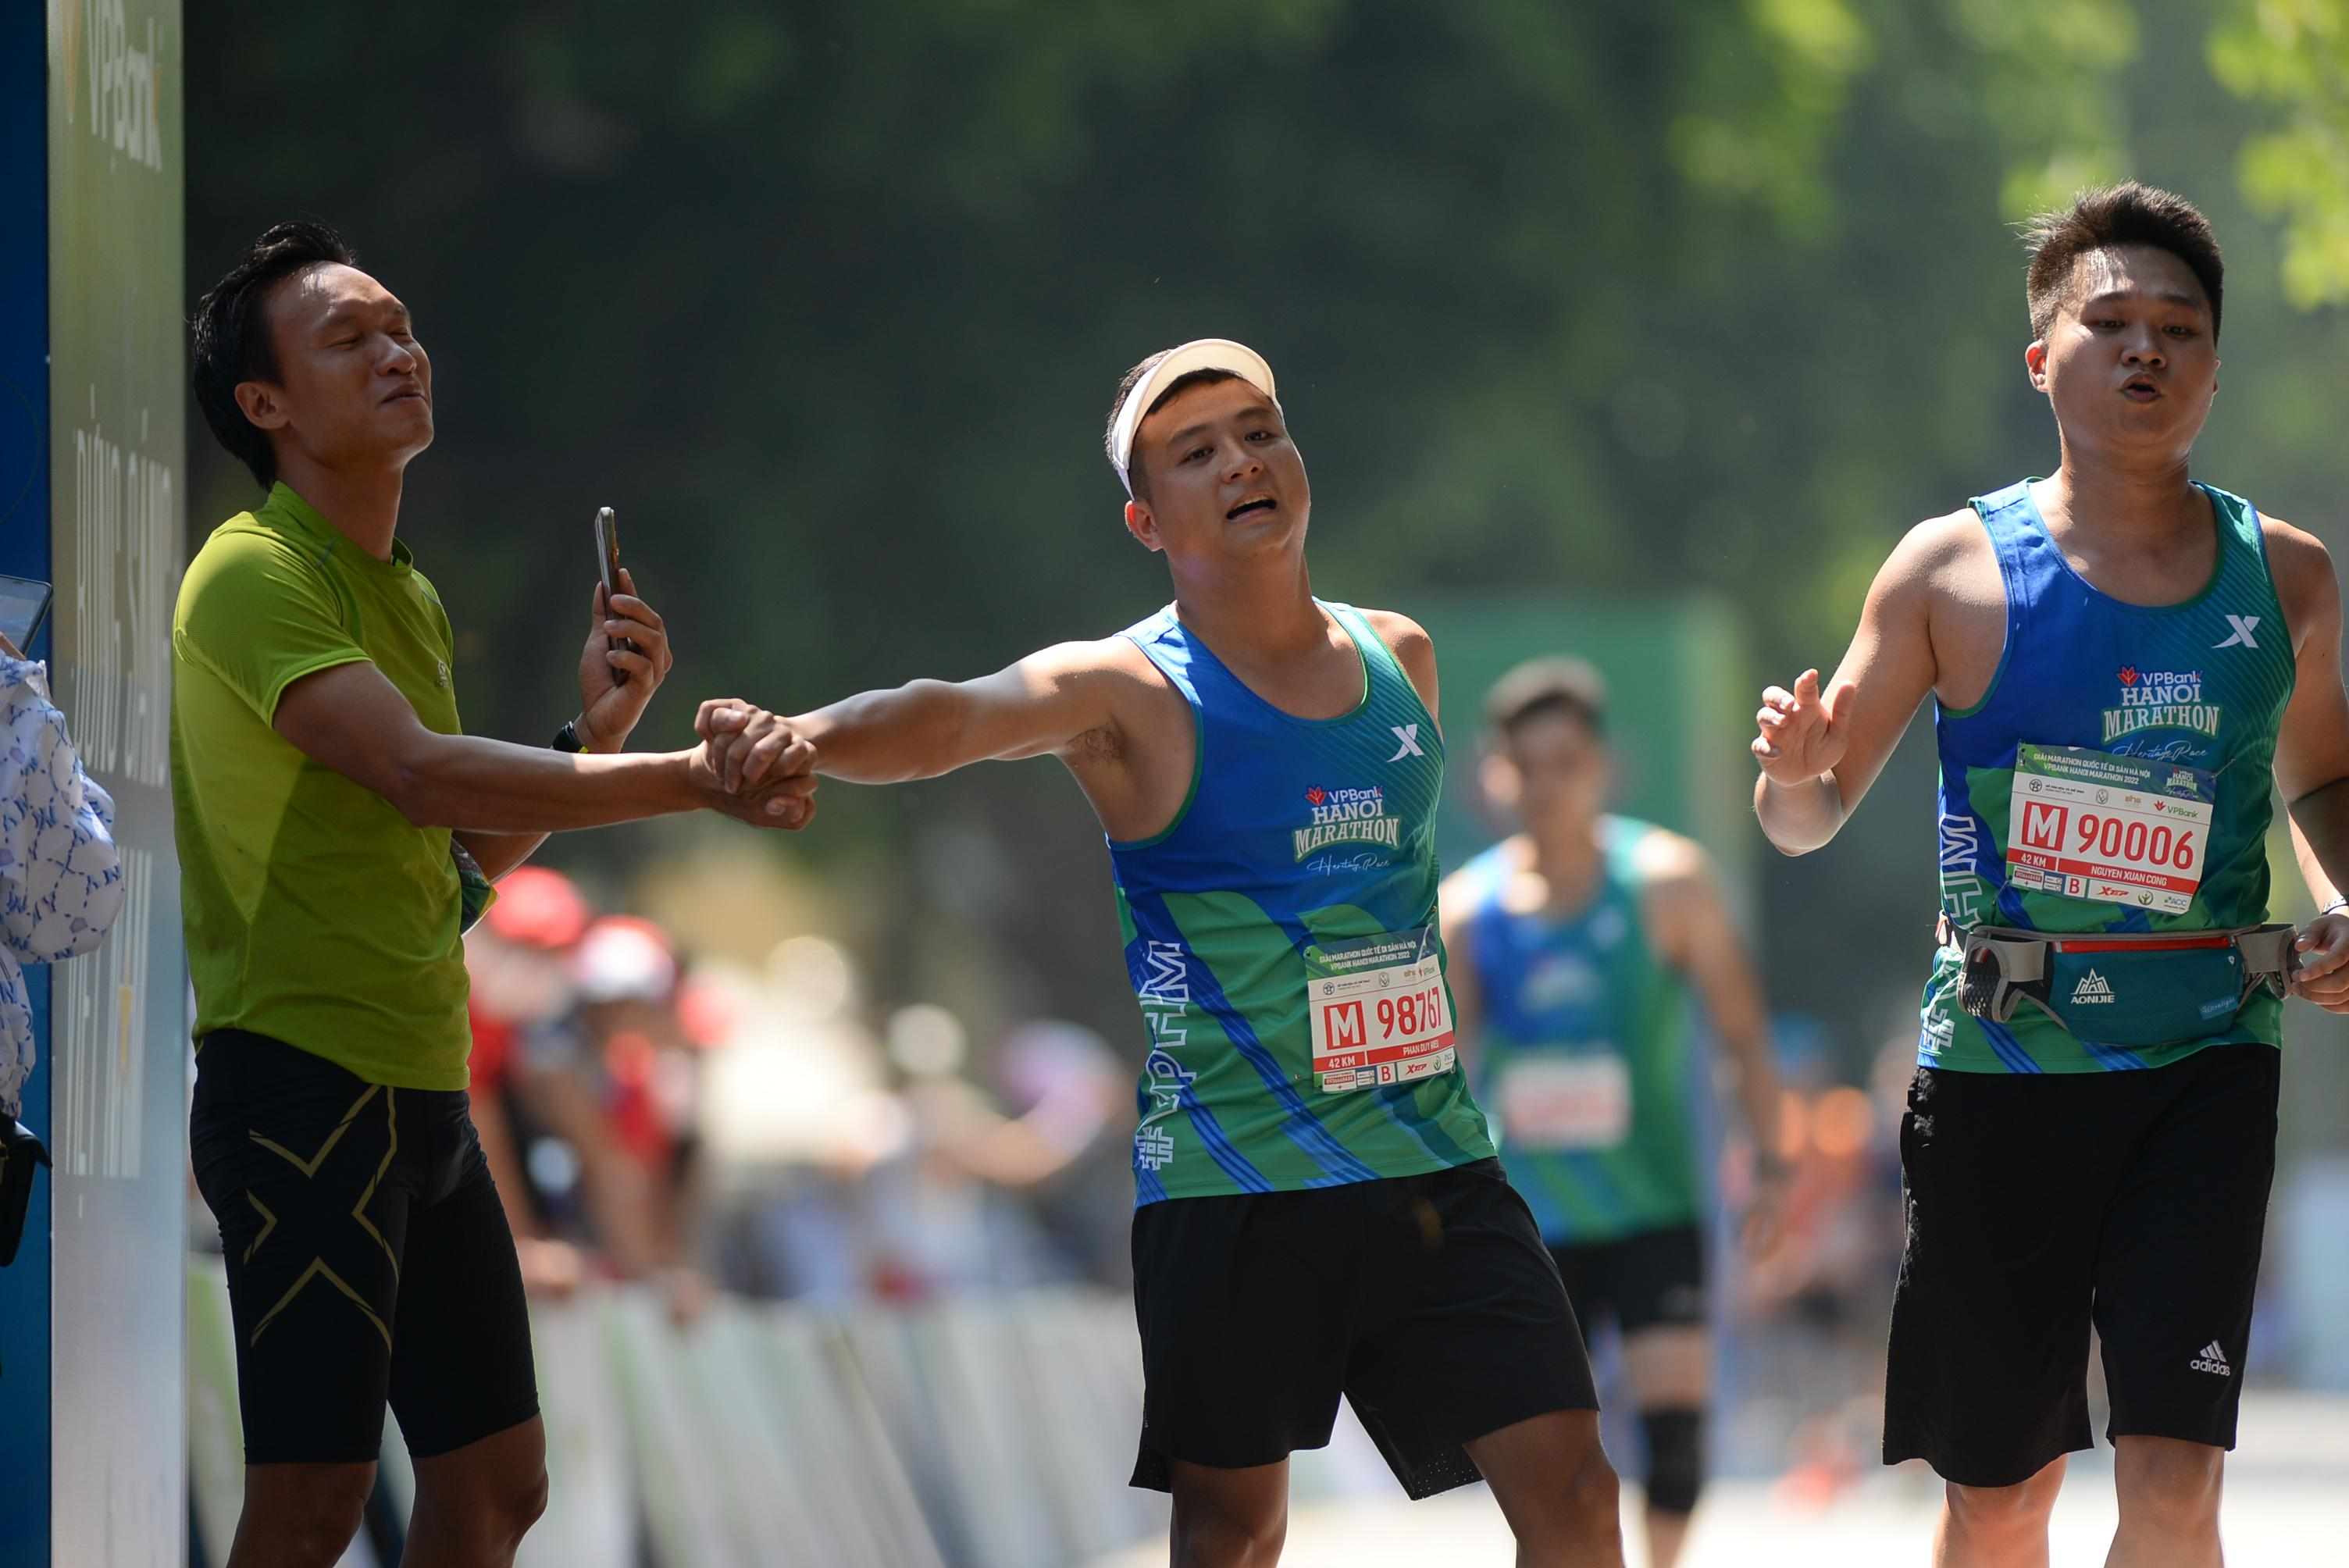bib: (2008, 738, 2211, 915), (1309, 938, 1456, 1088)
